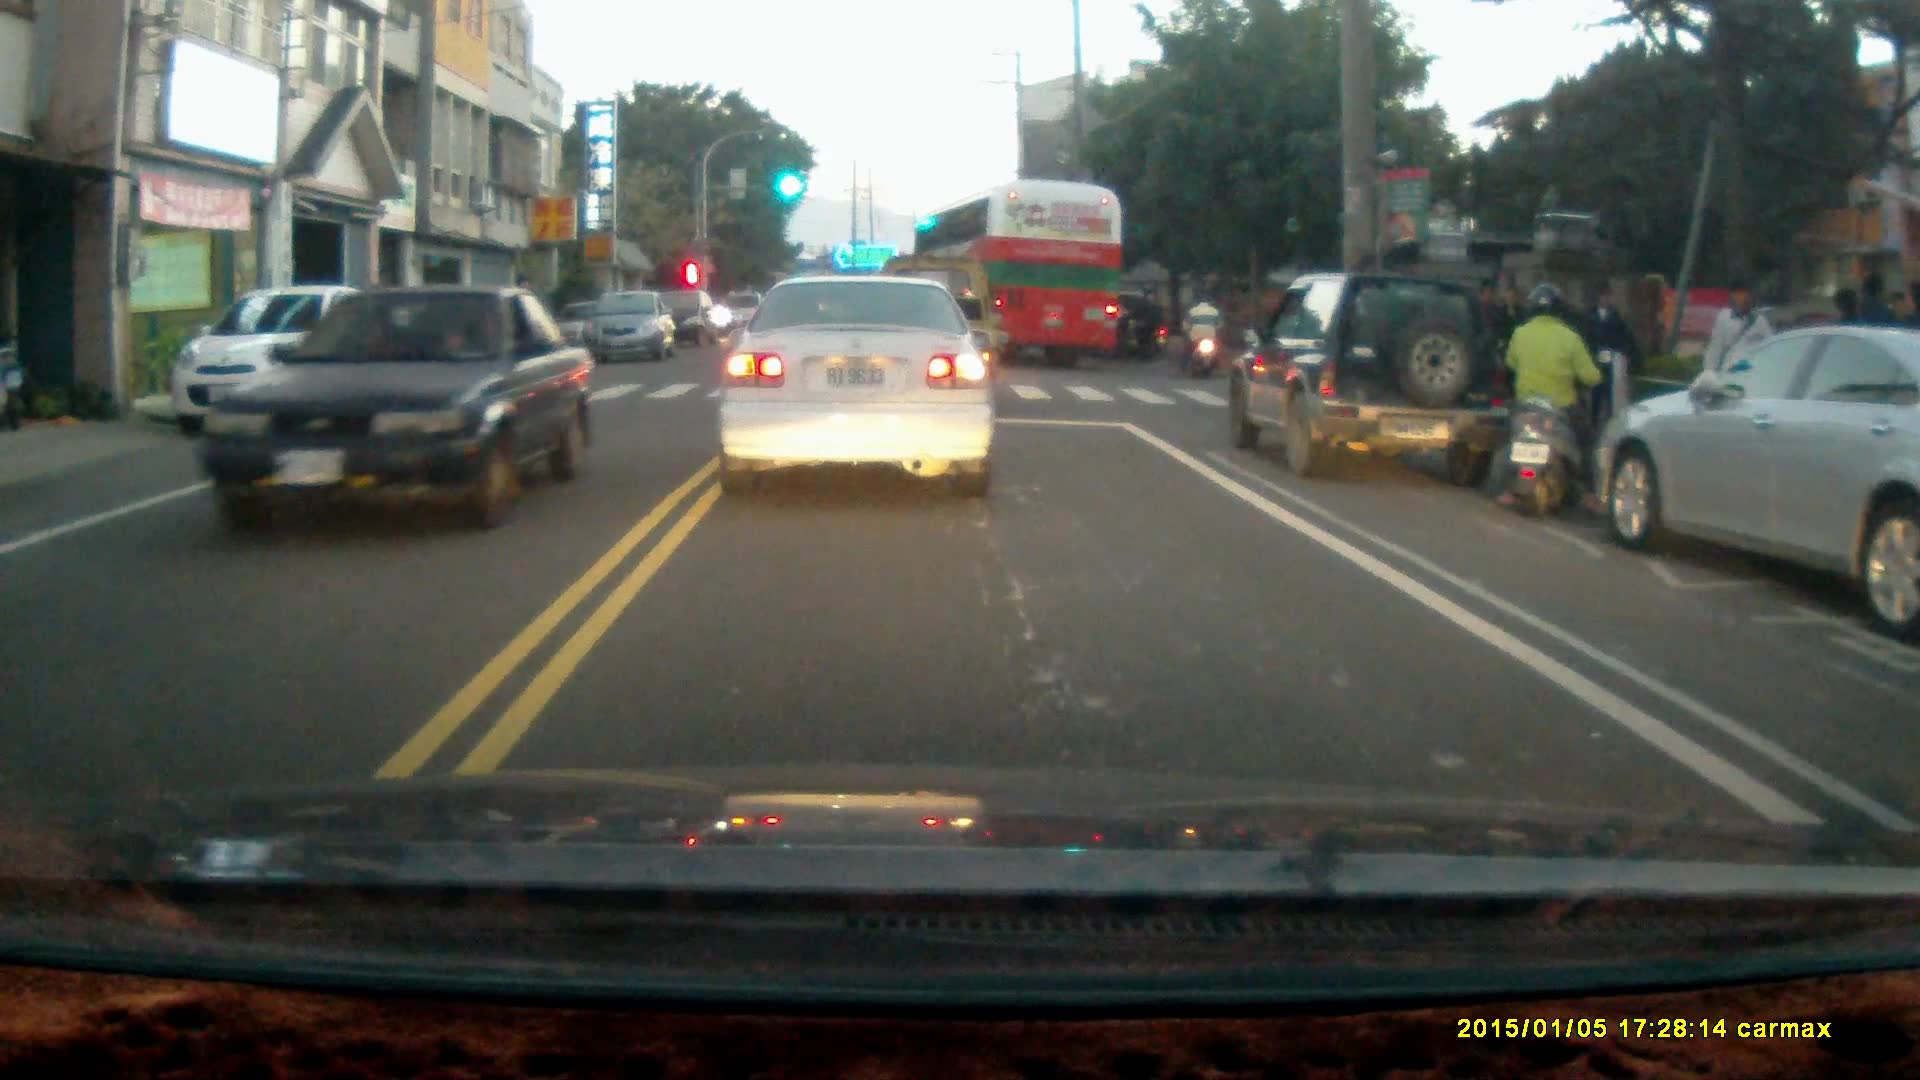pedestrian: (1699, 275, 1775, 441), (1580, 282, 1635, 444)
rider: (1496, 284, 1611, 520), (1108, 292, 1171, 364), (1180, 289, 1223, 377)
vehicle: (179, 282, 610, 539), (1598, 330, 1920, 640), (715, 271, 1003, 503), (1222, 274, 1514, 485), (905, 180, 1126, 368), (182, 282, 389, 430), (586, 291, 680, 367), (641, 286, 725, 355)
